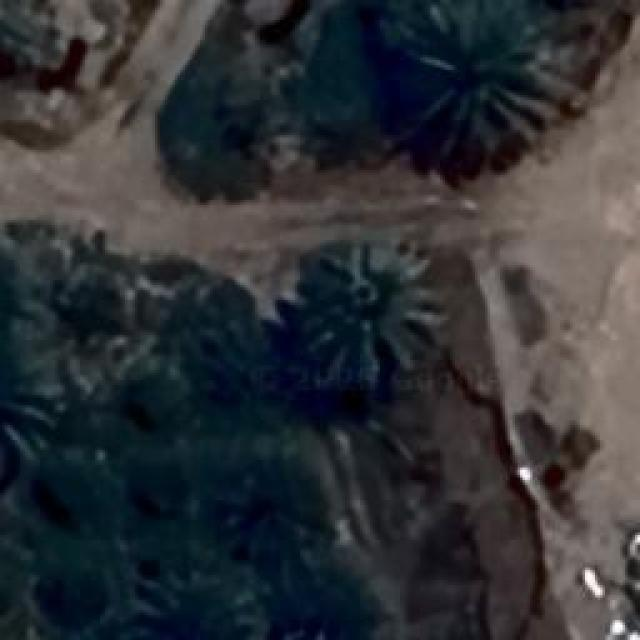PalmTree: (25, 79, 499, 402), (290, 242, 450, 388), (94, 272, 254, 418), (274, 388, 414, 487), (121, 582, 252, 640)
